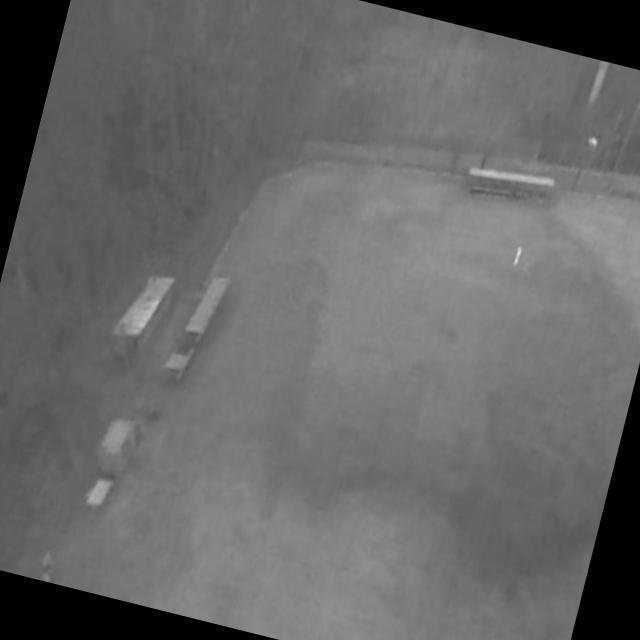person: (511, 246, 524, 268)
